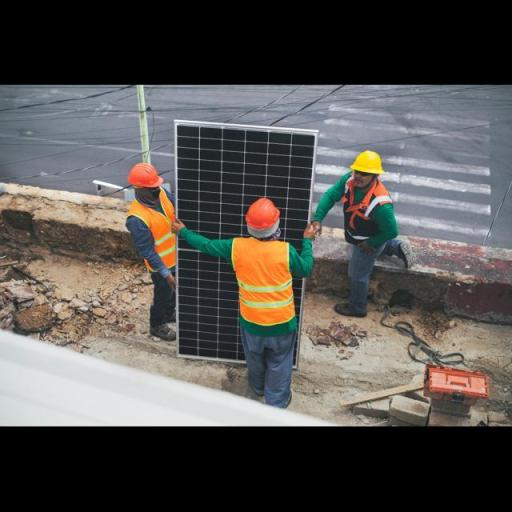Person: (175, 181, 311, 405), (303, 127, 416, 329), (106, 145, 196, 341)
boots: (388, 229, 418, 275), (328, 296, 374, 323), (330, 291, 372, 320), (264, 382, 302, 414), (146, 314, 187, 343), (147, 310, 183, 342), (394, 235, 420, 271), (248, 372, 270, 406)
gloves: (303, 219, 322, 246), (169, 214, 185, 244)
helmet: (240, 192, 285, 237), (240, 193, 284, 235), (346, 144, 392, 180), (342, 148, 392, 180), (124, 157, 166, 195), (121, 156, 166, 190)
vest: (224, 228, 312, 335), (220, 226, 302, 336), (118, 184, 190, 277), (335, 169, 395, 255), (123, 191, 186, 271), (338, 175, 391, 248)
